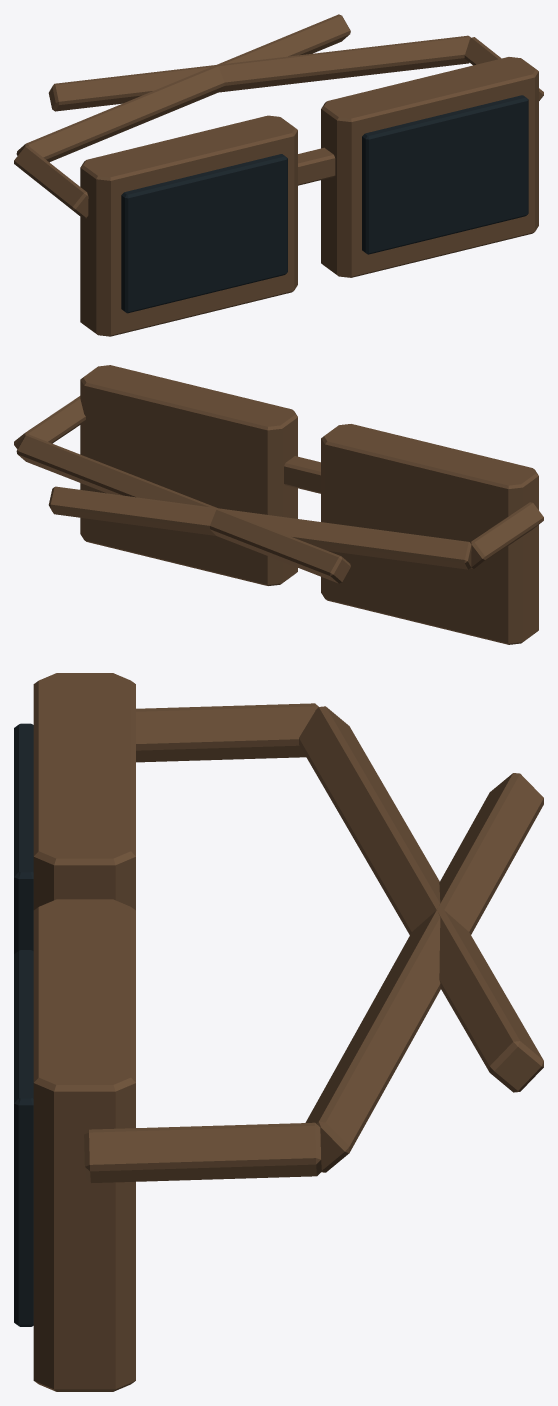
Rendered from b17_folded_sunglasses.glb.
The picture shows the model from 3 angles, top to bottom: view 1: azimuth 30°, elevation 25°; view 2: azimuth 150°, elevation 25°; view 3: azimuth 270°, elevation 25°; orthographic projection. The views are drawn at different scales.
Visible parts, largest first — view 1: b17_folded_sunglasses; view 2: b17_folded_sunglasses; view 3: b17_folded_sunglasses.
Part boxes in pixels (left/top/right/bottom): b17_folded_sunglasses: left=14, top=14, right=543, bottom=336; b17_folded_sunglasses: left=14, top=365, right=543, bottom=644; b17_folded_sunglasses: left=14, top=673, right=543, bottom=1391.
Bounding box in the file's own units: 0.1331 × 0.043 × 0.0673.
